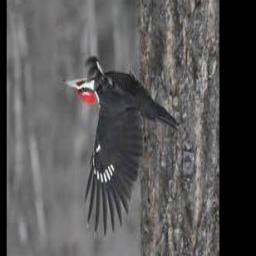Woodpecker: (62, 57, 180, 236)
